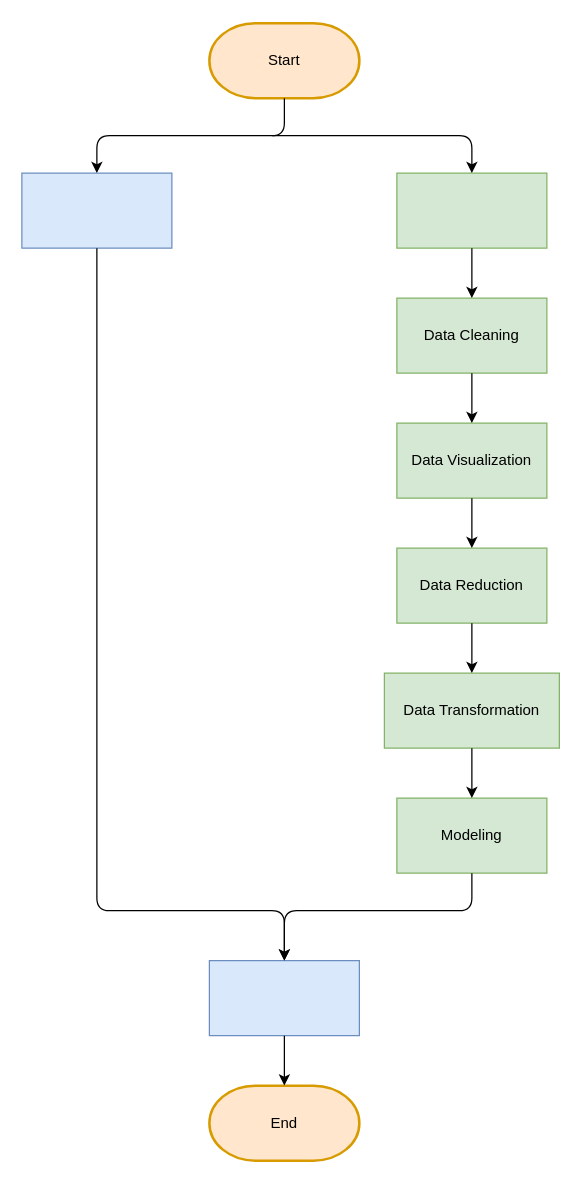
Some shapes in this 581 by 1183 pixel diagram are drawn without their labels. Here are the shapes that lost their labels. From the top down, the box of each, then its label:
(21, 172, 172, 248): Design Web Application User Interface
(396, 172, 547, 248): Data Importing
(208, 959, 359, 1036): Create Web Application
